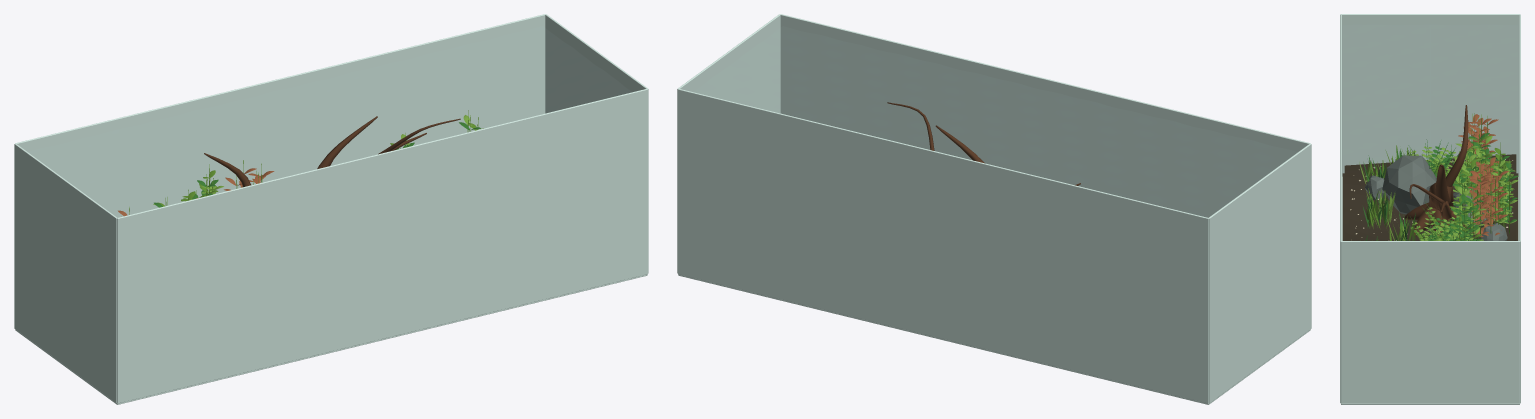
Rendered from aquarium.glb.
3 renders of one model, left to right at view 1: azimuth 30°, elevation 25°; view 2: azimuth 150°, elevation 25°; view 3: azimuth 270°, elevation 25°, orthographic. The views are drawn at different scales.
Visible parts, largest first — view 1: tank.glass.front, tank.glass.back, tank.glass.left, tank.glass.right, tank.glass.base, hardscape.wood.angular; view 2: tank.glass.back, tank.glass.front, tank.glass.left, tank.glass.right, tank.glass.base; view 3: tank.glass.right, tank.glass.left, bed.left, hardscape.stone.00, hardscape.wood.angular, plants.stem.020, plants.stem.021, plants.stem.016, plants.stem.015, tank.glass.back, tank.glass.front, plants.stem.009 (+20 smaller).
Part boxes in pixels (x1=…): tank.glass.front: x1=117, y1=89, x2=647, y2=403; tank.glass.back: x1=15, y1=14, x2=545, y2=217; tank.glass.left: x1=14, y1=143, x2=117, y2=403; tank.glass.right: x1=545, y1=14, x2=648, y2=273; tank.glass.base: x1=15, y1=274, x2=647, y2=404; hardscape.wood.angular: x1=204, y1=116, x2=460, y2=187; tank.glass.back: x1=678, y1=89, x2=1208, y2=403; tank.glass.front: x1=780, y1=14, x2=1310, y2=217; tank.glass.left: x1=1208, y1=143, x2=1311, y2=403; tank.glass.right: x1=677, y1=14, x2=780, y2=273; tank.glass.base: x1=678, y1=274, x2=1310, y2=404; tank.glass.right: x1=1341, y1=241, x2=1519, y2=403; tank.glass.left: x1=1341, y1=14, x2=1519, y2=176; bed.left: x1=1344, y1=154, x2=1516, y2=240; hardscape.stone.00: x1=1382, y1=155, x2=1436, y2=214; hardscape.wood.angular: x1=1404, y1=105, x2=1469, y2=236; plants.stem.020: x1=1468, y1=154, x2=1508, y2=238; plants.stem.021: x1=1449, y1=186, x2=1486, y2=240; plants.stem.016: x1=1491, y1=142, x2=1518, y2=233; plants.stem.015: x1=1458, y1=113, x2=1498, y2=170; tank.glass.back: x1=1519, y1=14, x2=1520, y2=403; tank.glass.front: x1=1340, y1=14, x2=1341, y2=403; plants.stem.009: x1=1454, y1=128, x2=1494, y2=187.
Size of the model in its own units: 0.903 by 0.303 by 0.303.
